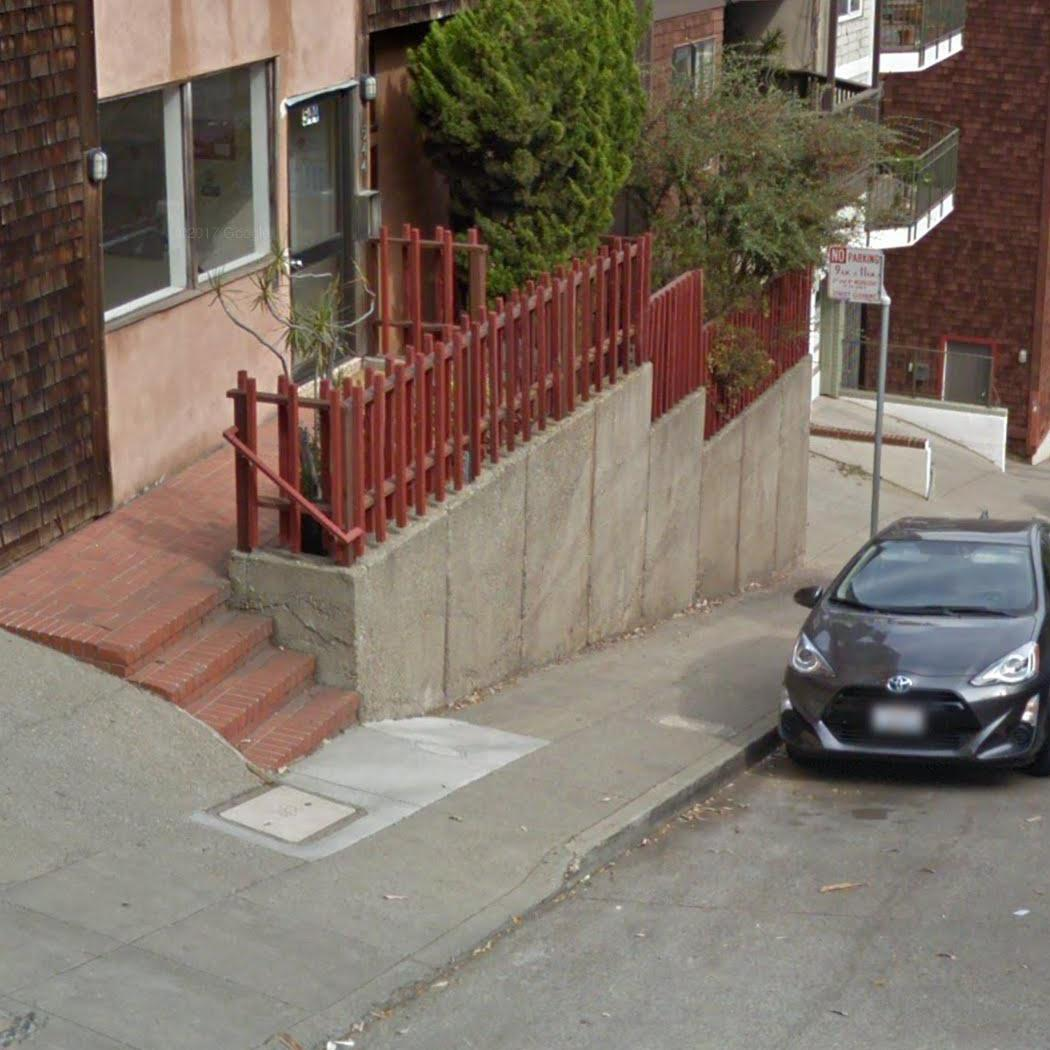No Parking: (826, 244, 886, 306)
